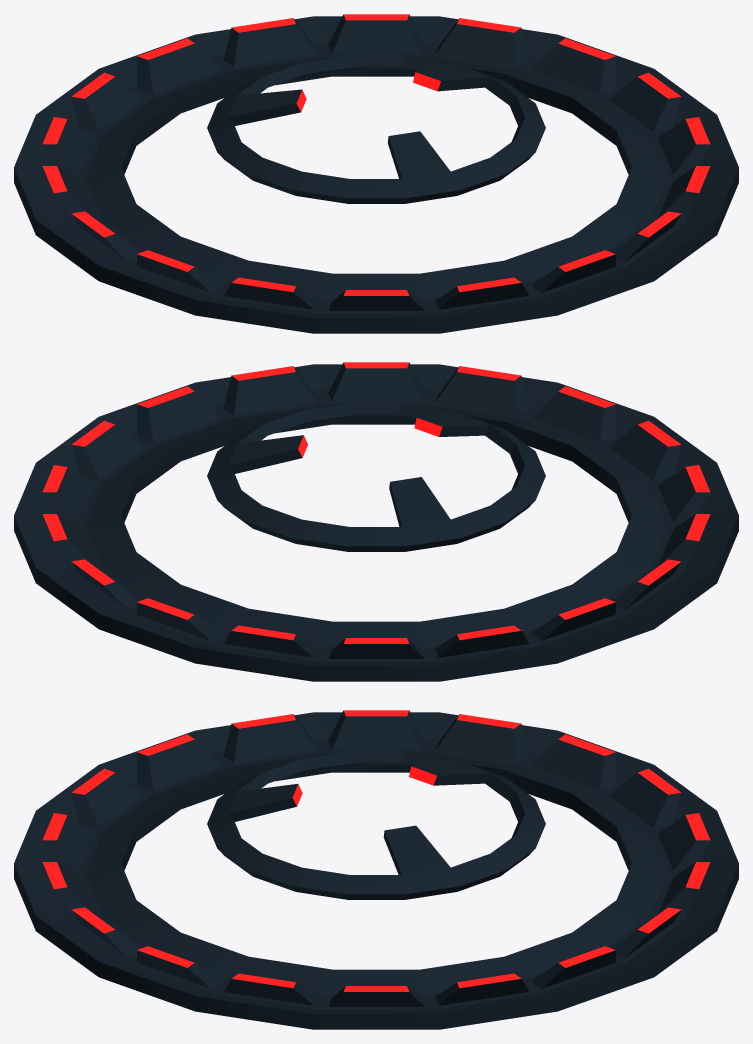
File: Lab_respawn.FBX
3 renders of one model, top to bottom at view 1: azimuth 30°, elevation 25°; view 2: azimuth 150°, elevation 25°; view 3: azimuth 270°, elevation 25°, orthographic.
Parts seen in each view (by area): view 1: Tube001; view 2: Tube001; view 3: Tube001.
Part boxes in pixels (<box>): Tube001: <box>14,14,738,333</box>; Tube001: <box>14,362,738,681</box>; Tube001: <box>14,710,738,1029</box>.
Bounding box in the file's own units: 1.61 × 0.2034 × 1.63.
